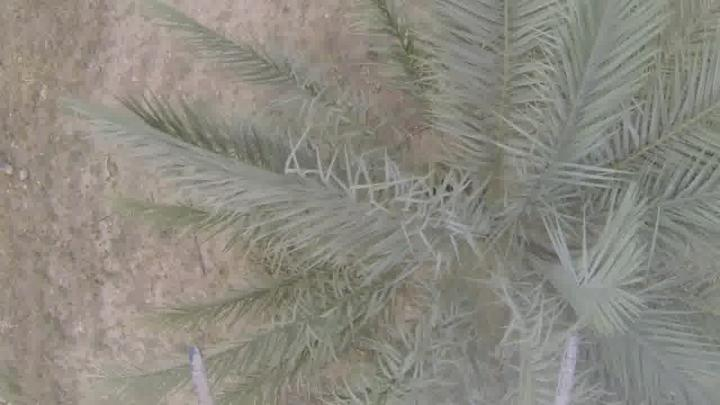Date-Palm-Crown: (239, 0, 713, 404)
